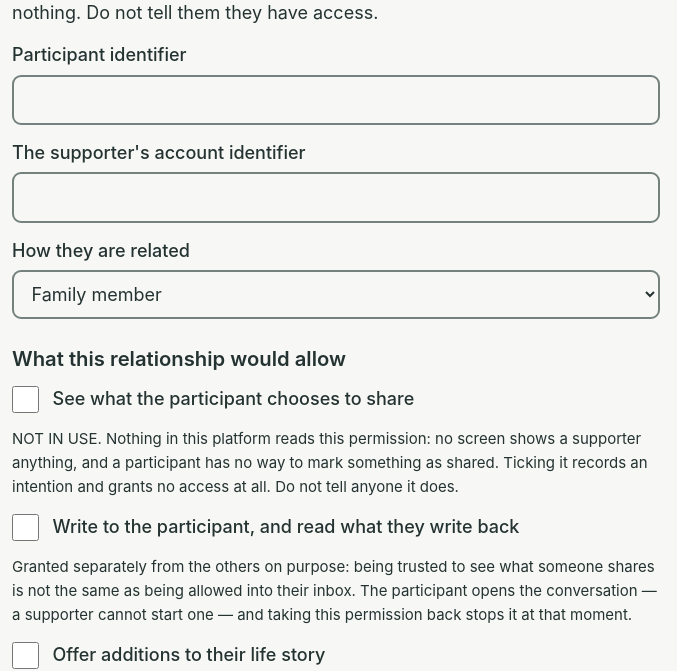
Scenario: proposing a supporter › proposes with the type and the chosen permissions, and says it is not yet in force
Type "pt_a" into the field labelled "Participant identifier" at [336, 100], box 12,75 -> 660,126
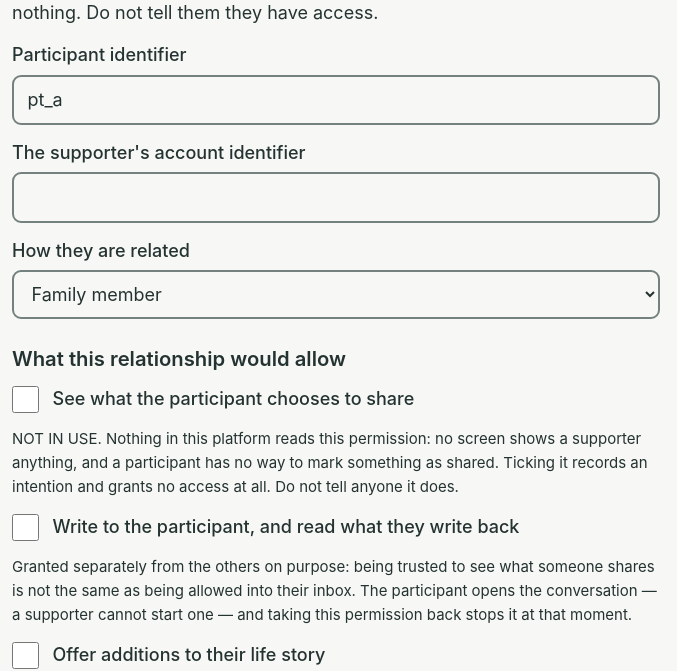
Type "actor_s" into the field labelled "The supporter's account identifier" at [336, 198], box 12,172 -> 660,223
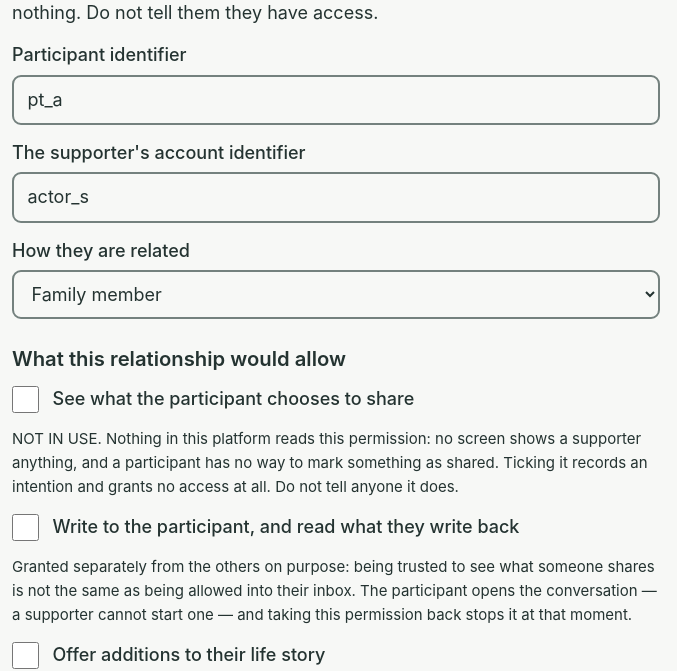
Select "Family member" in the dropdown labelled "How they are related" at [336, 295], box 12,270 -> 660,319
Click the checkbox labelled "Offer additions to their life story" at [26, 655], box 12,642 -> 39,669
(page scrolled)
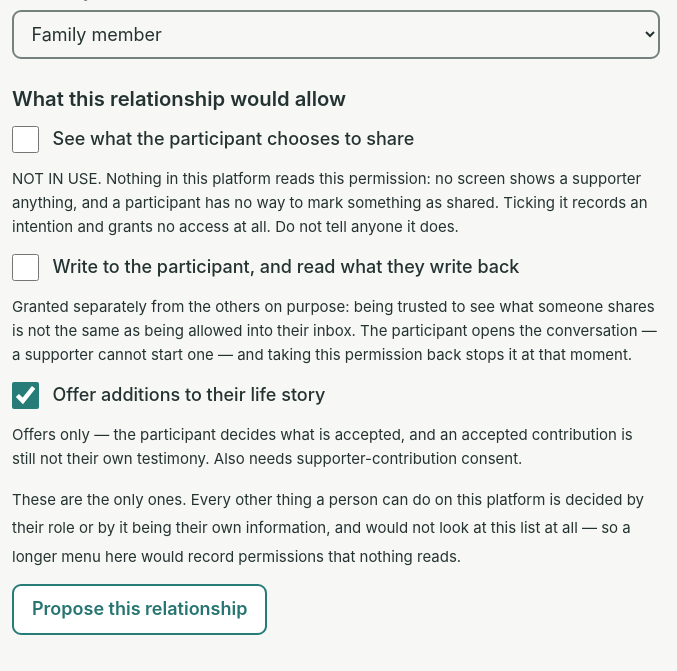
Click the button "Propose this relationship" at [140, 610], box 12,584 -> 268,635
(page scrolled)
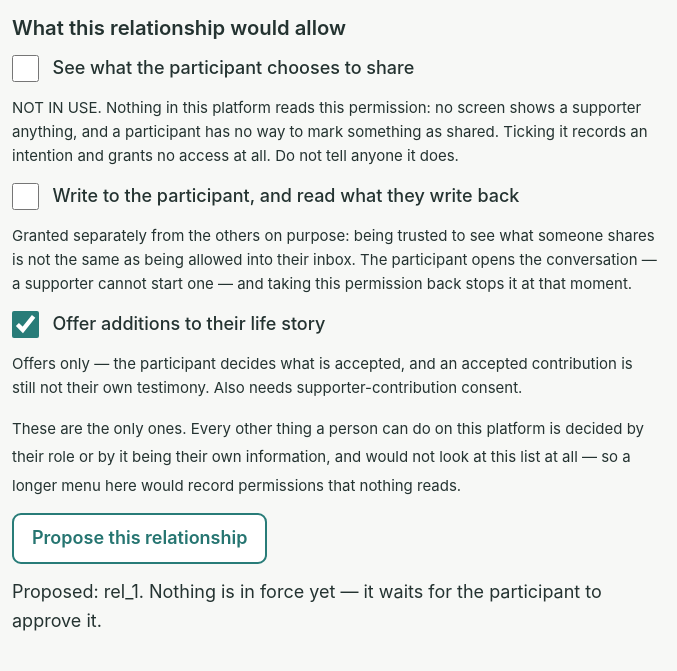
Check: the text "waits for the participant to approve it" is shown, box 12,581 -> 602,631
